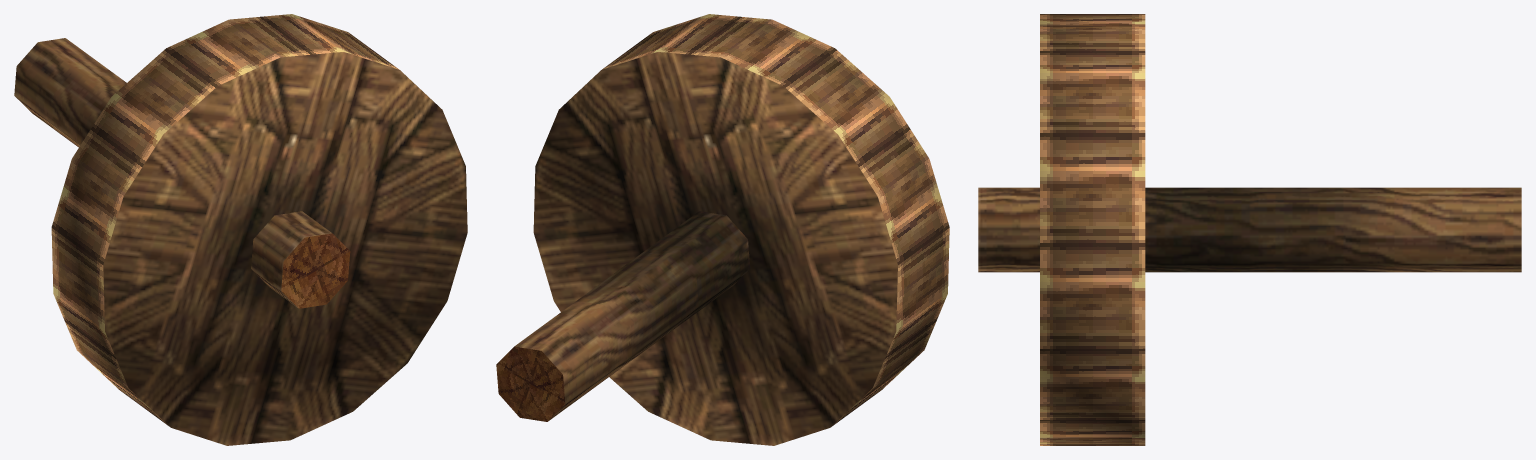
The model's file is INST_SWORDLIGHT_DRUMC.fbx.
The picture shows the model from 3 angles, left to right: view 1: azimuth 30°, elevation 25°; view 2: azimuth 150°, elevation 25°; view 3: azimuth 270°, elevation 25°; orthographic projection.
Parts seen in each view (by area): view 1: INST_SWORDLIGHT_DRUMC; view 2: INST_SWORDLIGHT_DRUMC; view 3: INST_SWORDLIGHT_DRUMC.
Part boxes in pixels (x1=…): INST_SWORDLIGHT_DRUMC: x1=14, y1=14, x2=467, y2=445; INST_SWORDLIGHT_DRUMC: x1=496, y1=14, x2=949, y2=445; INST_SWORDLIGHT_DRUMC: x1=978, y1=14, x2=1521, y2=445.
Bounding box in the file's own units: 25125 × 25391 × 31880.
Materials: 4 (4 with a texture image).
